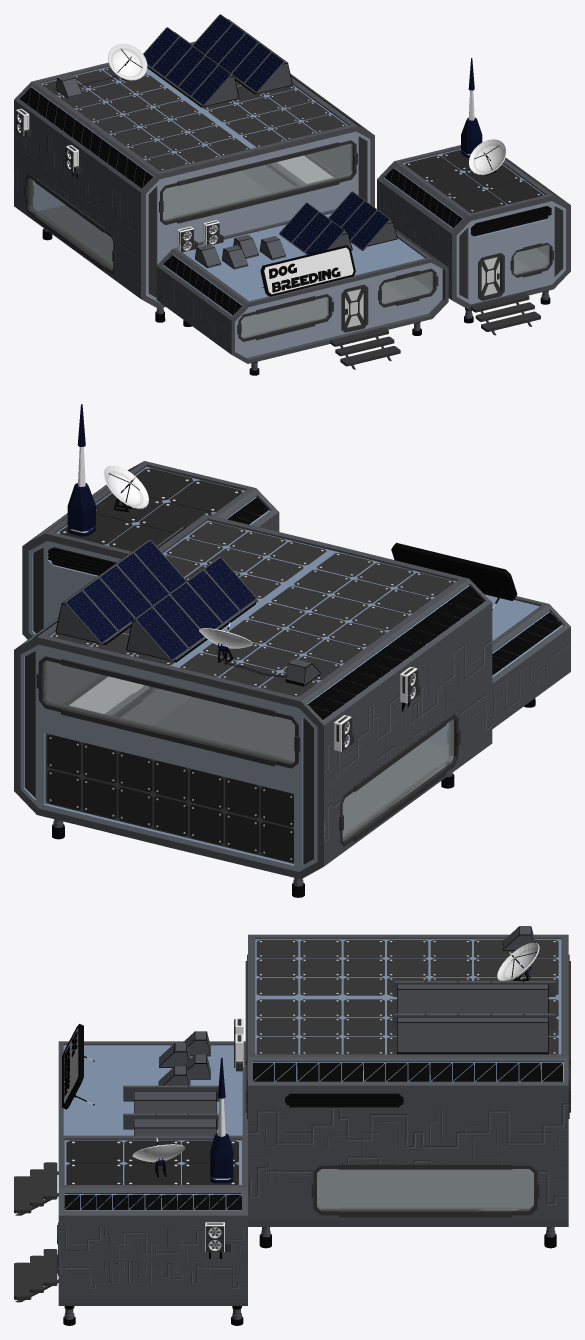
The model's file is Breeding level 2.fbx.
3 views of the same model, one above another, from view 1: azimuth 30°, elevation 25°; view 2: azimuth 150°, elevation 25°; view 3: azimuth 270°, elevation 25° (orthographic). The views are drawn at different scales.
Parts seen in each view (by area): view 1: Breeding level 2, Breeding level 2.009, Breeding level 2.008, Breeding level 2.001, Breeding level 2.002, Breeding level 2.004, Breeding level 2.003; view 2: Breeding level 2, Breeding level 2.009, Breeding level 2.007, Breeding level 2.003, Breeding level 2.010; view 3: Breeding level 2, Breeding level 2.006, Breeding level 2.005.
Boxes of the visible parts, left/top/right/bottom form: Breeding level 2: left=14, top=14, right=570, bottom=375; Breeding level 2.009: left=14, top=100, right=140, bottom=298; Breeding level 2.008: left=146, top=131, right=370, bottom=303; Breeding level 2.001: left=235, top=263, right=442, bottom=357; Breeding level 2.002: left=456, top=201, right=565, bottom=304; Breeding level 2.004: left=377, top=179, right=451, bottom=299; Breeding level 2.003: left=156, top=266, right=231, bottom=354; Breeding level 2: left=14, top=404, right=570, bottom=897; Breeding level 2.009: left=324, top=603, right=492, bottom=866; Breeding level 2.007: left=20, top=644, right=317, bottom=871; Breeding level 2.003: left=492, top=627, right=570, bottom=728; Breeding level 2.010: left=28, top=541, right=121, bottom=635; Breeding level 2: left=14, top=926, right=570, bottom=1325; Breeding level 2.006: left=248, top=1085, right=568, bottom=1219; Breeding level 2.005: left=58, top=1215, right=247, bottom=1299.
Bounding box in the file's own units: 565 × 299 × 588.
